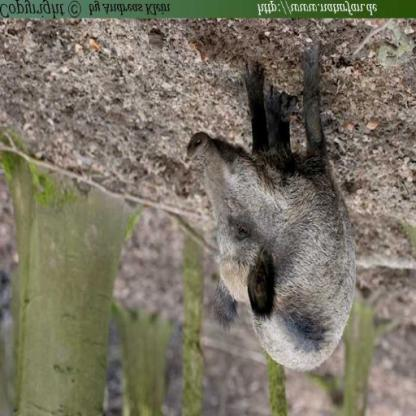boar: (181, 60, 366, 389)
